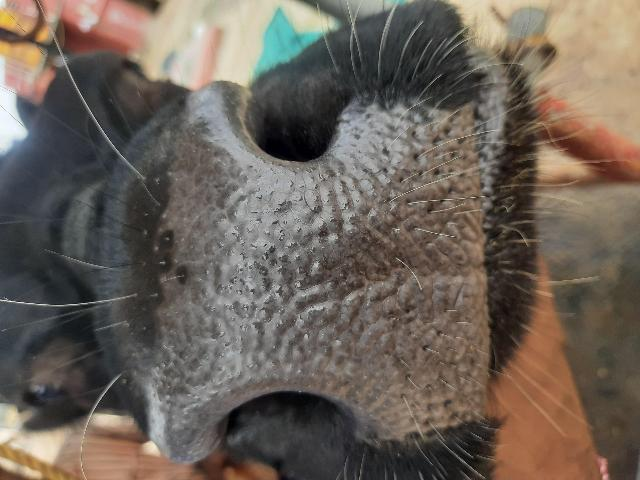Muzzle: (189, 162, 479, 388)
